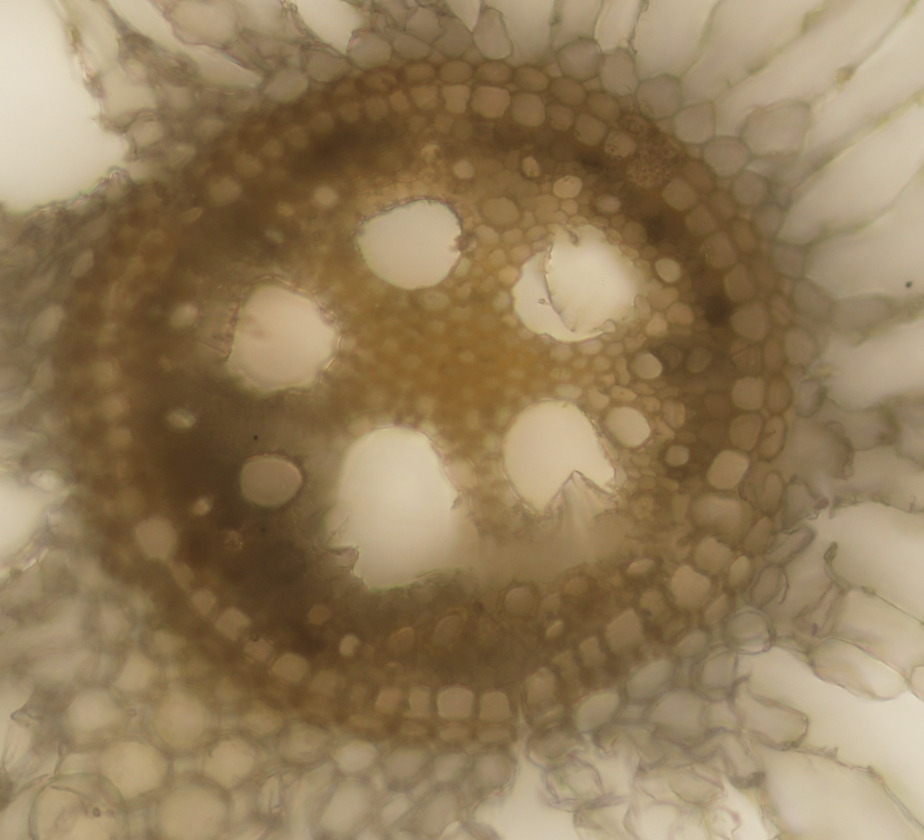lm: (326, 426, 478, 592), (509, 221, 640, 342), (224, 277, 338, 397), (502, 398, 616, 514), (355, 198, 461, 289)
